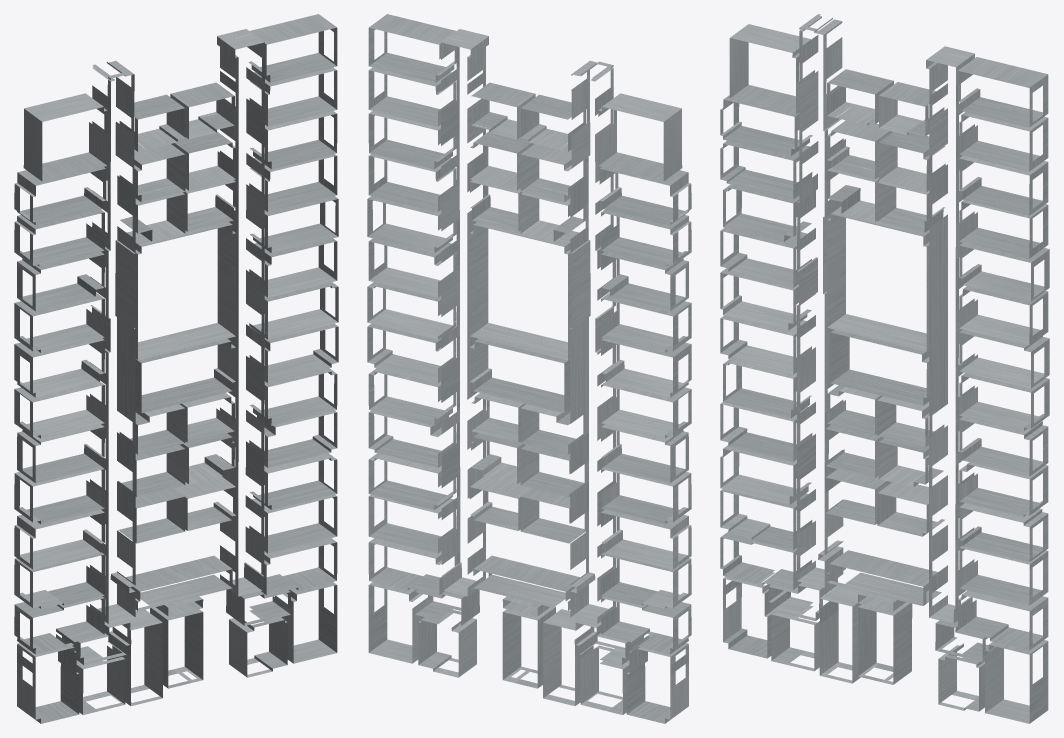
Rendered from wall.obj.
3 views of the same model, side by side, from view 1: azimuth 30°, elevation 25°; view 2: azimuth 150°, elevation 25°; view 3: azimuth 330°, elevation 25° (orthographic).
Parts seen in each view (by area): view 1: area6_wall; view 2: area6_wall; view 3: area6_wall.
Boxes of the visible parts, bbox=[...] form: area6_wall: bbox=[14, 14, 338, 723]; area6_wall: bbox=[367, 14, 691, 723]; area6_wall: bbox=[720, 14, 1049, 723].
Bounding box in the file's own units: 22.81 × 45.1 × 2.4.
1 material, 1 textured.
